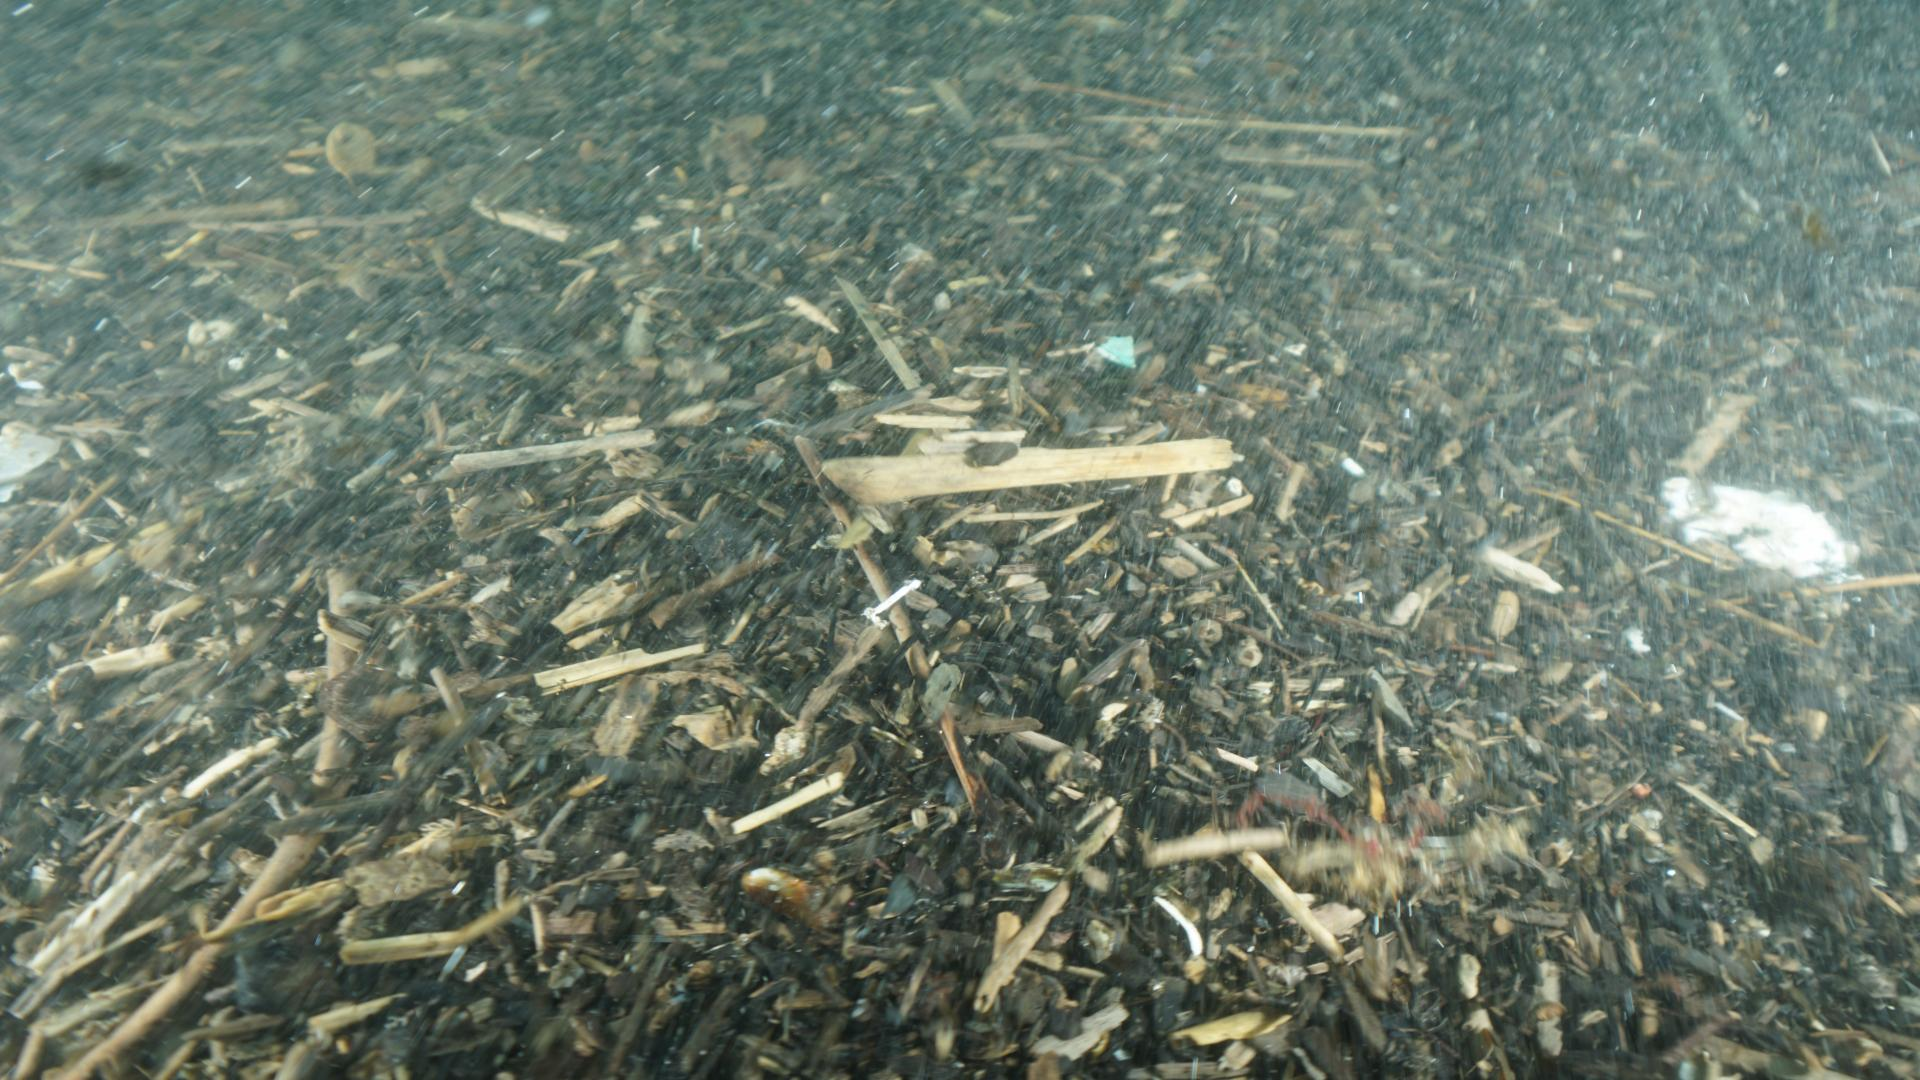wood: (818, 433, 1245, 509)
